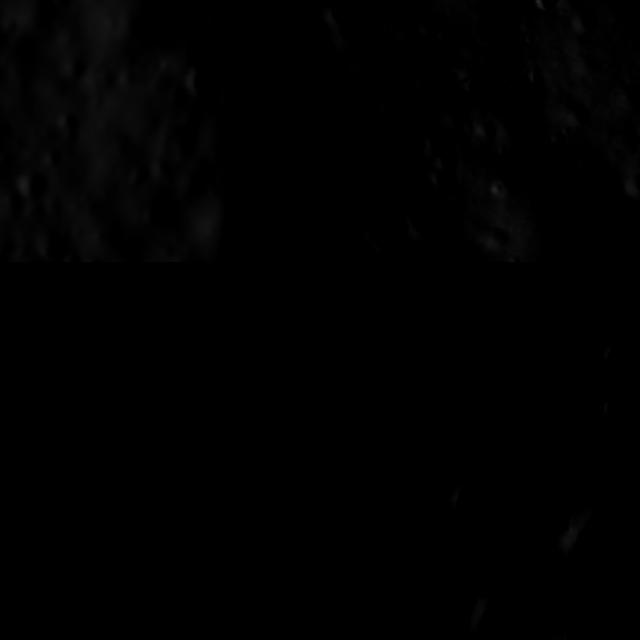crater: (224, 12, 393, 262), (492, 156, 627, 262), (323, 460, 412, 544), (158, 13, 224, 119), (551, 501, 630, 585), (437, 472, 509, 542), (388, 573, 444, 640), (463, 589, 532, 640), (396, 188, 450, 253), (261, 590, 315, 639), (389, 262, 440, 308), (595, 335, 640, 384), (257, 418, 298, 462), (346, 358, 386, 403), (325, 400, 370, 438), (224, 262, 256, 310), (591, 395, 630, 431), (538, 621, 609, 640), (284, 262, 331, 287), (224, 528, 258, 561), (0, 60, 20, 116), (304, 607, 336, 640), (466, 450, 487, 484), (456, 262, 503, 277), (279, 522, 299, 556), (268, 378, 292, 405), (526, 0, 564, 12), (224, 613, 239, 640)
